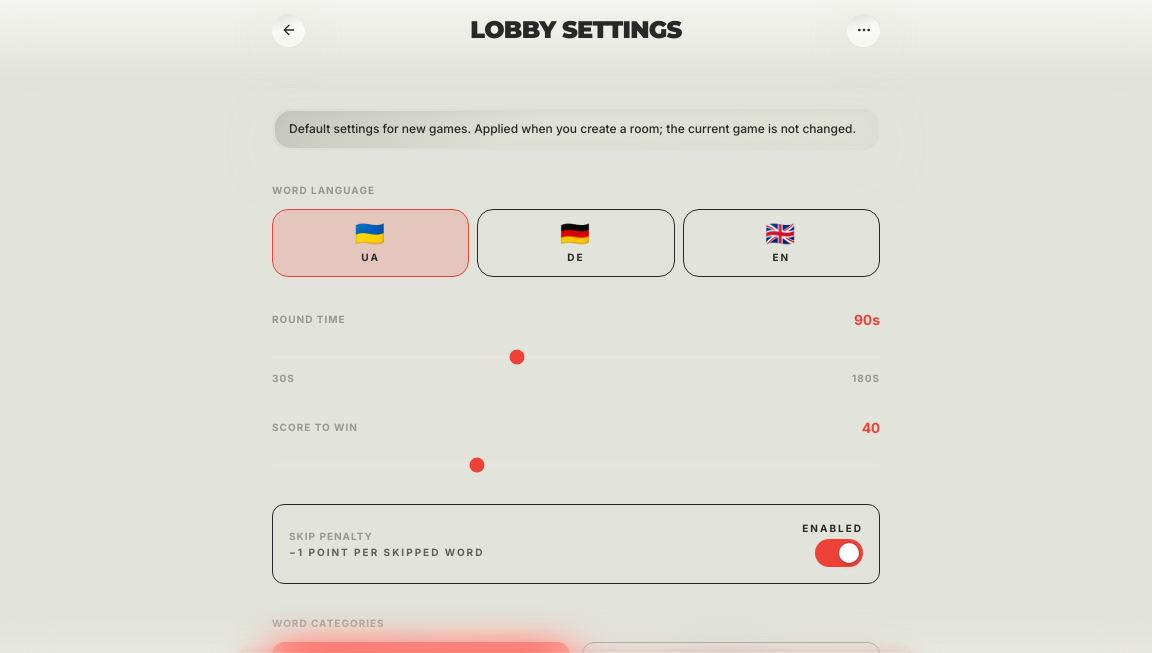
Test: LobbySettingsScreen › resets to factory defaults after confirm
Expected: the text "40" is shown, [862,416,880,438]
Click the button with test id "app-header-menu". click: (858, 30)
box: [836,8,880,52]
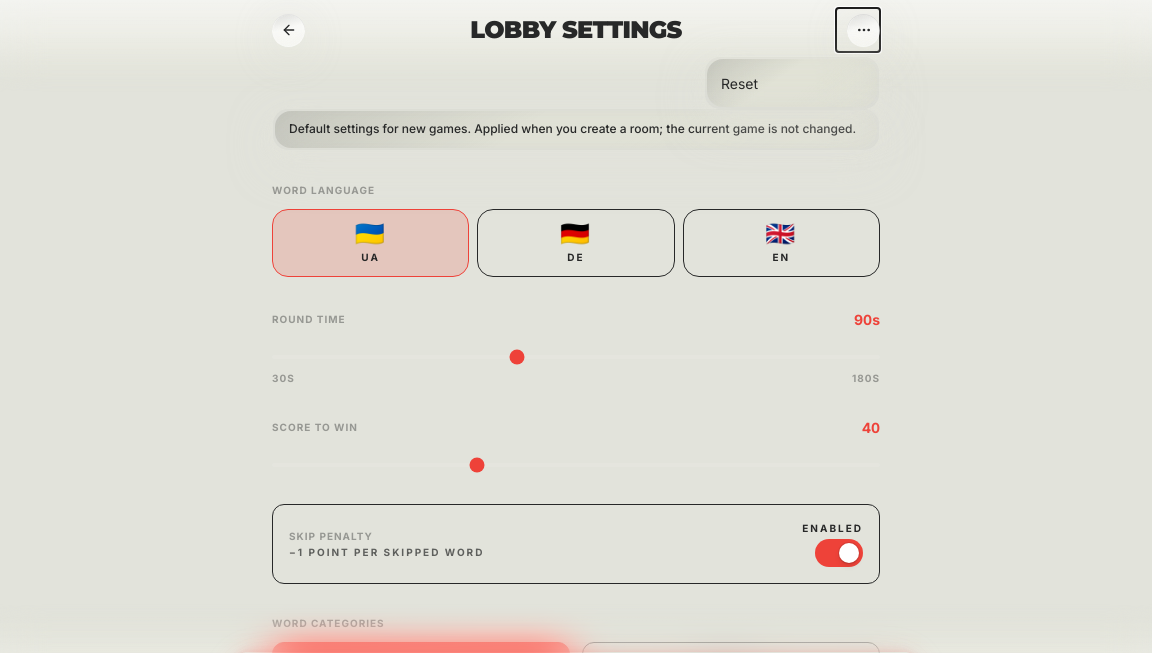
Click the menu item with test id "app-header-menu-item-reset". click: (792, 83)
box: [705,61,879,105]
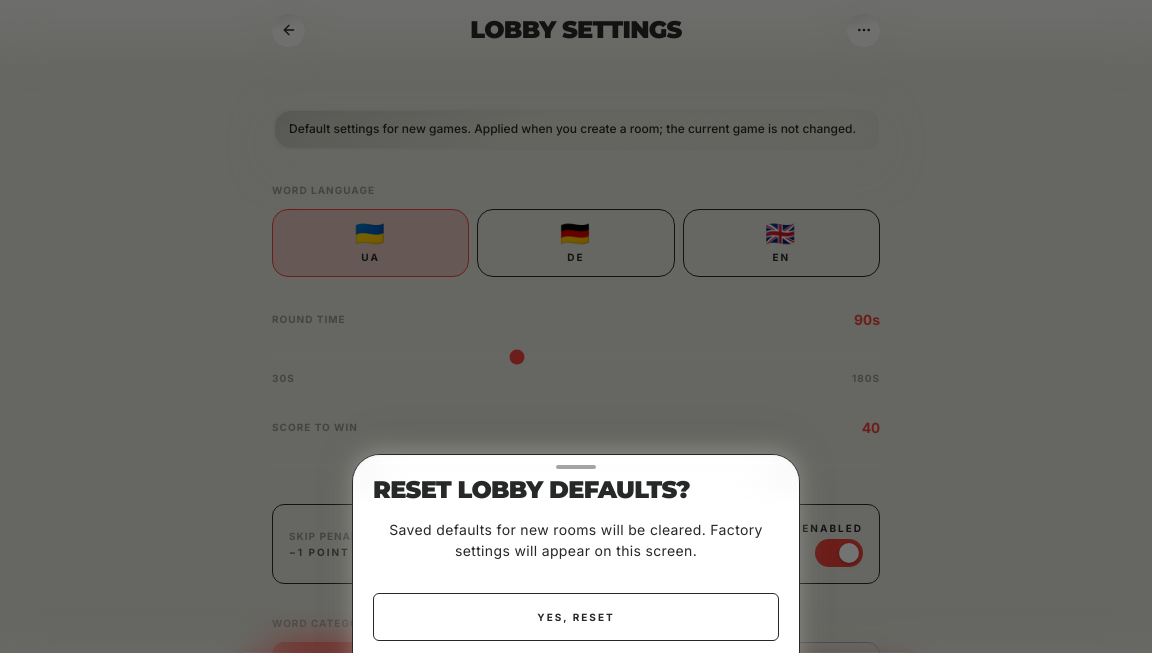
Now the button "Yes, reset" is shown
Click the button "Yes, reset". click: (576, 617)
box: [373,593,779,641]
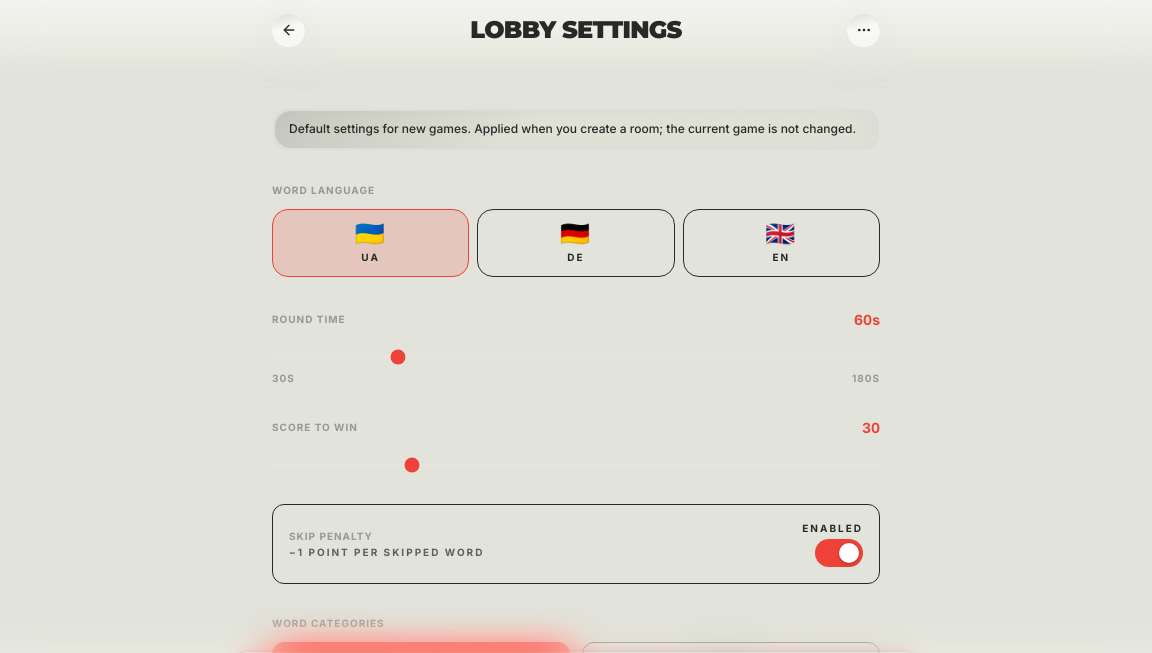
Now the text "30" is shown, box [862,416,880,438]
